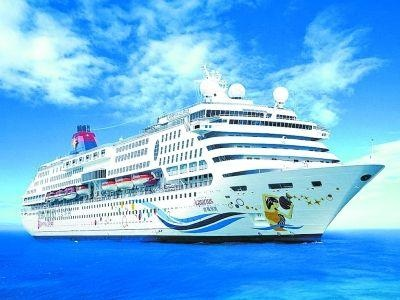youlun: (19, 66, 389, 239)
